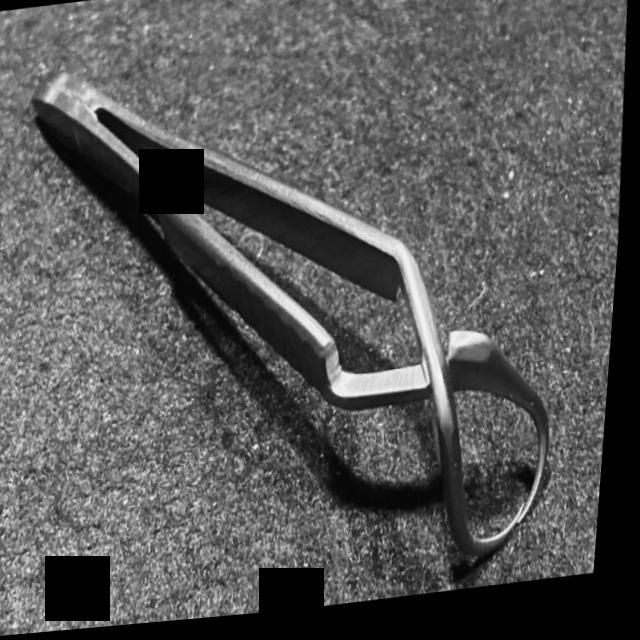Jones Towel Clamp: (1, 4, 592, 617)
